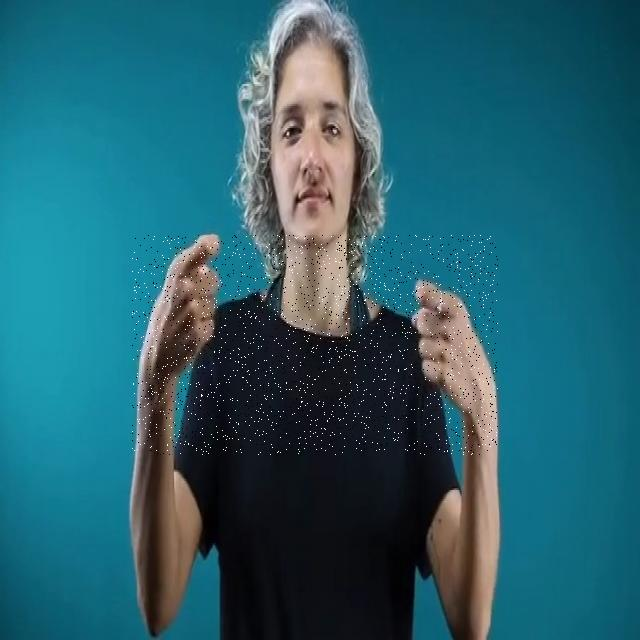allergy: (132, 235, 498, 456)
